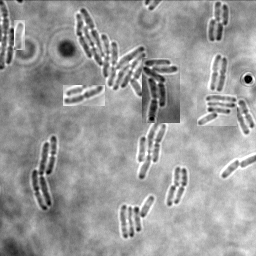Dividing: (63, 85, 105, 106), (175, 167, 189, 204), (238, 99, 255, 128), (209, 54, 222, 90), (217, 56, 228, 92), (7, 27, 17, 64)
Microcolony: (76, 7, 147, 98), (142, 58, 180, 123), (137, 117, 168, 180), (32, 135, 57, 211), (120, 195, 155, 238), (197, 94, 237, 126), (208, 1, 229, 42), (14, 20, 25, 50)
Rod: (233, 106, 251, 135), (222, 157, 240, 178), (167, 184, 177, 206), (174, 166, 183, 187)
